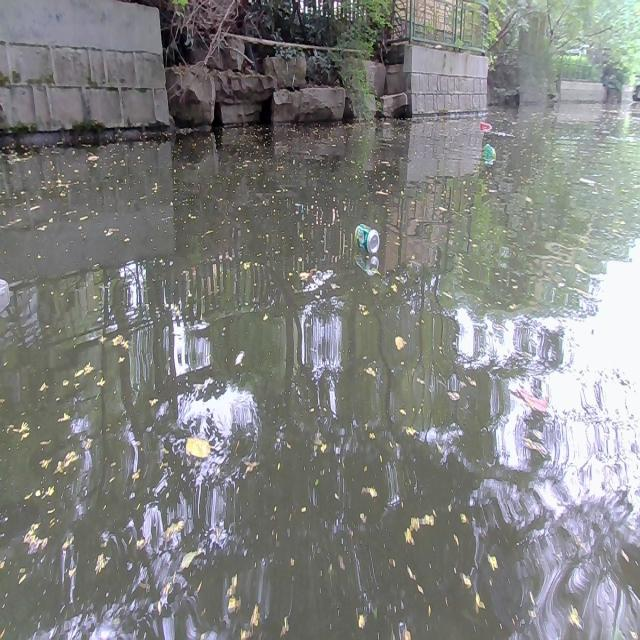bottle: (353, 222, 379, 254), (483, 142, 496, 158), (479, 121, 493, 131)
